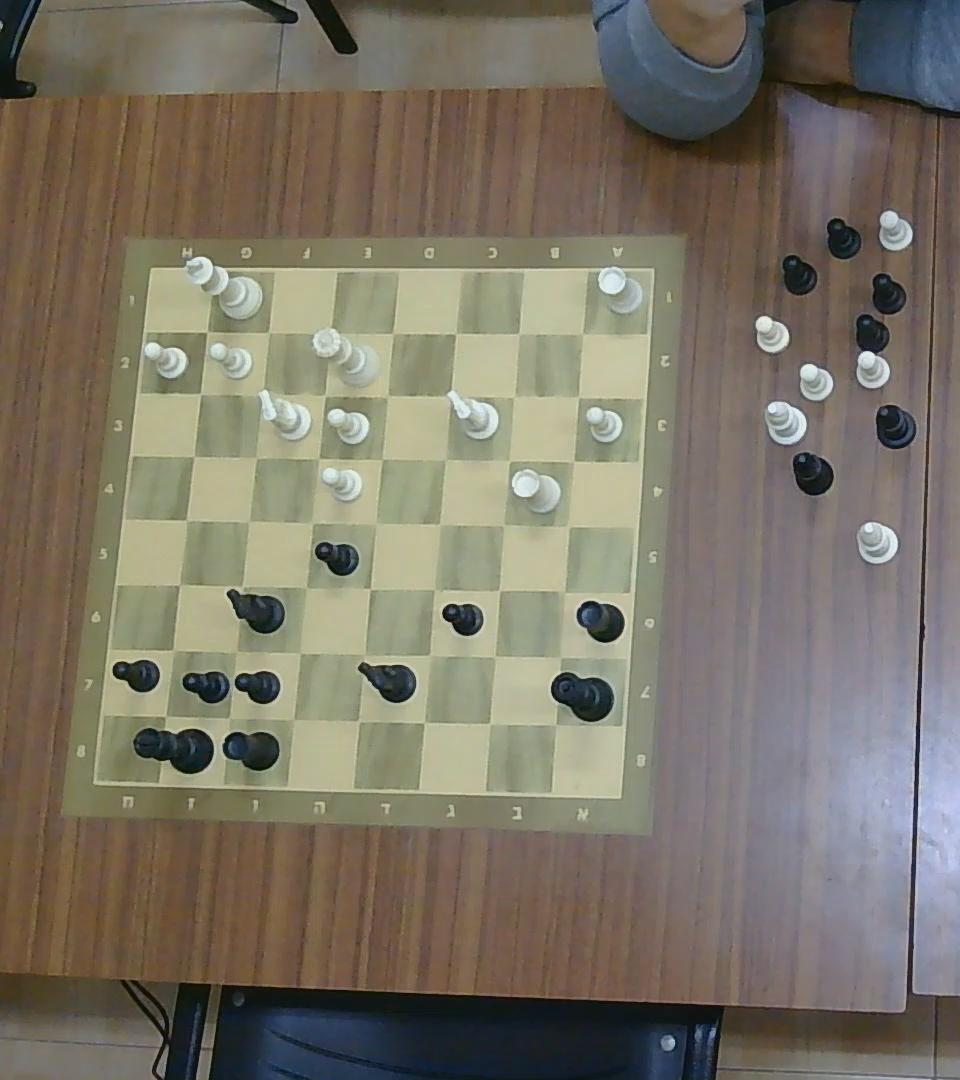xcorner: (215, 703, 242, 730), (280, 704, 305, 733), (477, 709, 503, 735), (411, 709, 437, 734), (153, 702, 178, 728), (543, 712, 568, 738), (346, 707, 370, 733), (287, 640, 311, 665), (161, 637, 185, 662), (551, 578, 576, 602), (547, 644, 572, 668), (167, 573, 191, 597), (318, 320, 342, 344), (224, 638, 246, 664), (236, 509, 259, 533), (294, 575, 317, 599), (482, 644, 505, 668), (352, 642, 375, 666), (364, 511, 387, 534), (419, 643, 442, 666), (175, 507, 197, 531), (196, 319, 218, 342), (558, 513, 580, 536), (300, 510, 323, 532), (359, 577, 381, 600), (422, 577, 444, 600), (438, 383, 461, 405), (251, 381, 272, 405), (182, 444, 204, 466), (245, 446, 267, 468), (562, 449, 584, 471), (230, 574, 252, 596), (381, 321, 402, 343), (258, 321, 279, 343), (435, 447, 455, 470), (371, 448, 392, 469), (493, 513, 513, 535), (498, 449, 518, 471), (568, 386, 590, 406), (445, 321, 465, 343), (429, 513, 449, 535), (376, 384, 396, 405), (189, 383, 210, 403), (308, 446, 327, 468), (508, 322, 528, 342), (488, 580, 508, 600), (315, 384, 334, 405), (504, 386, 523, 406), (572, 322, 591, 342)
